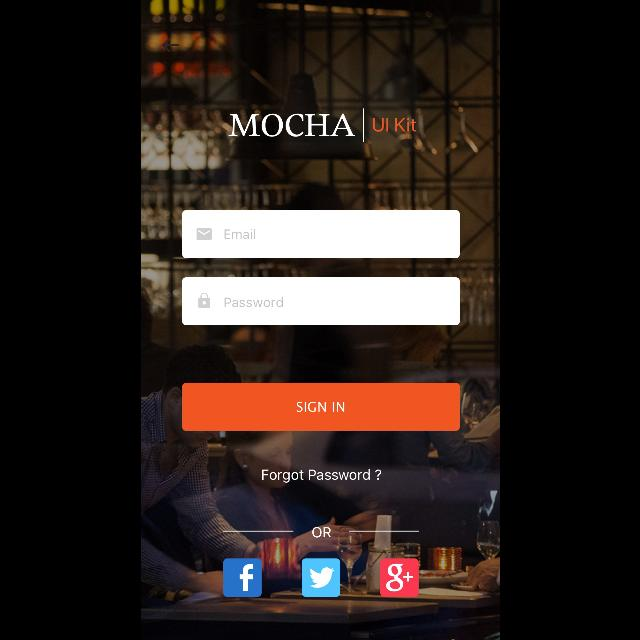backgroundimage: (140, 1, 500, 640)
icon: (223, 558, 261, 598), (302, 558, 340, 598), (380, 559, 418, 597), (162, 38, 178, 52), (197, 292, 209, 308), (196, 228, 210, 240)
input: (182, 277, 460, 325), (182, 210, 460, 258)
text: (228, 114, 354, 136), (262, 469, 381, 483), (372, 118, 416, 132), (224, 297, 282, 307), (223, 229, 254, 239), (312, 526, 331, 538)
textbutton: (182, 383, 460, 431)
